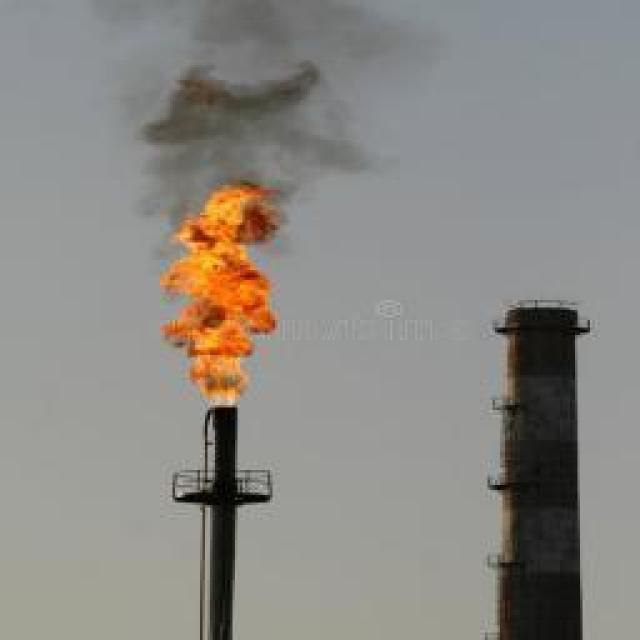fire: (158, 177, 282, 406)
smoke: (79, 1, 450, 271)
